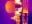Hotspot: (16, 7, 22, 15), (6, 2, 10, 12), (13, 15, 17, 20), (15, 0, 20, 3)
